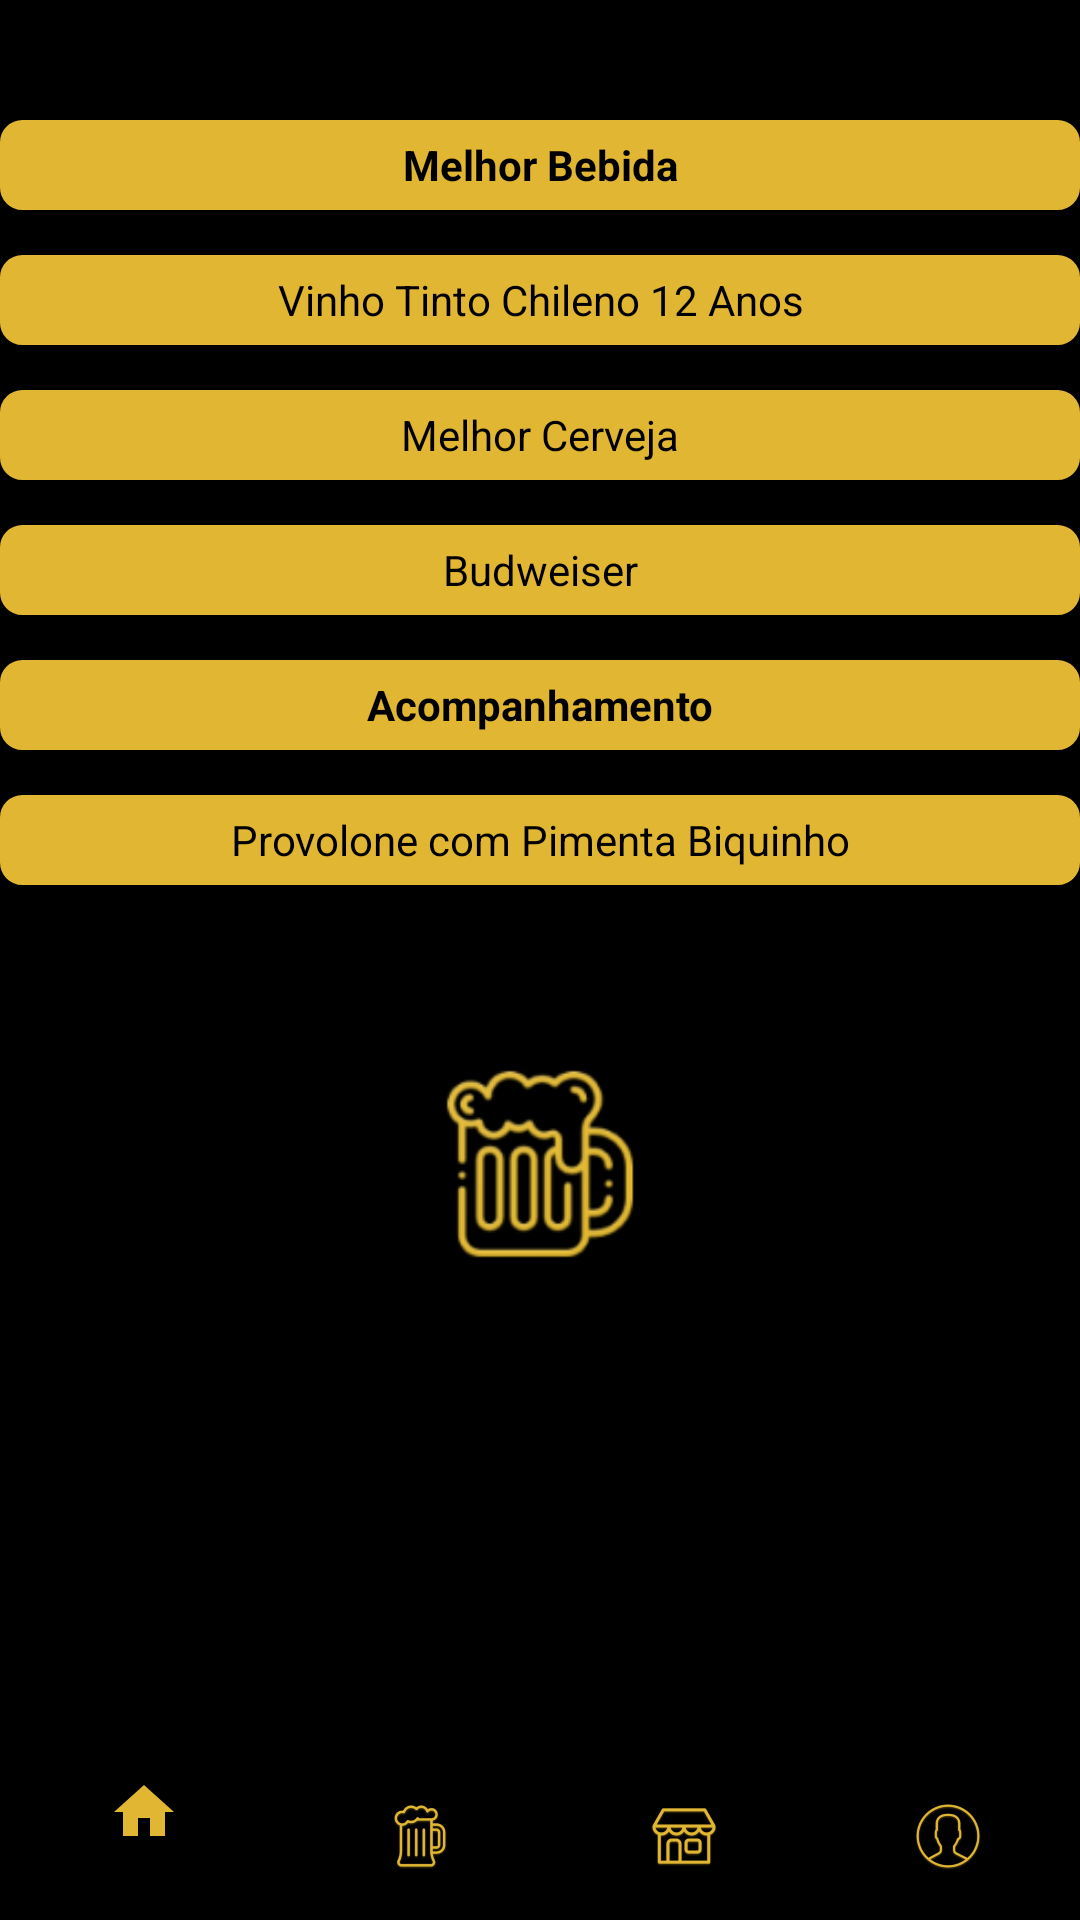

Icons on this 1080*1920 Android screen, each with the point to tap as (x=x, y=y):
beer: (x=540, y=1164)
